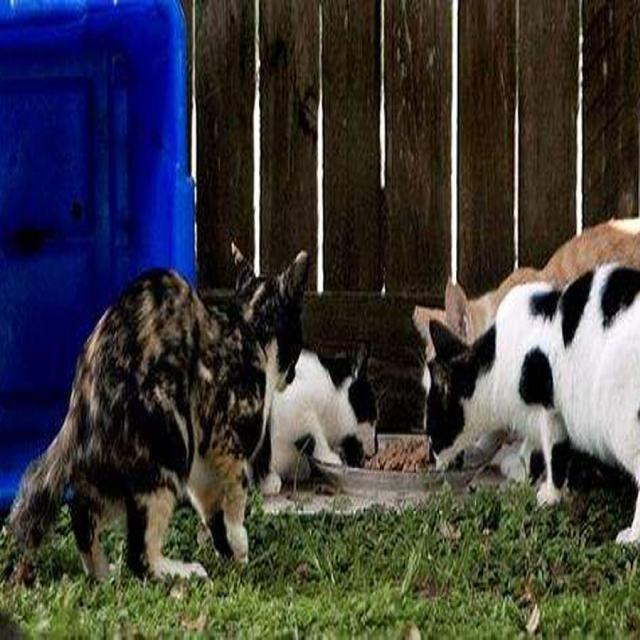cat: (9, 247, 309, 578), (426, 265, 640, 541), (412, 219, 640, 355), (262, 349, 376, 492)
